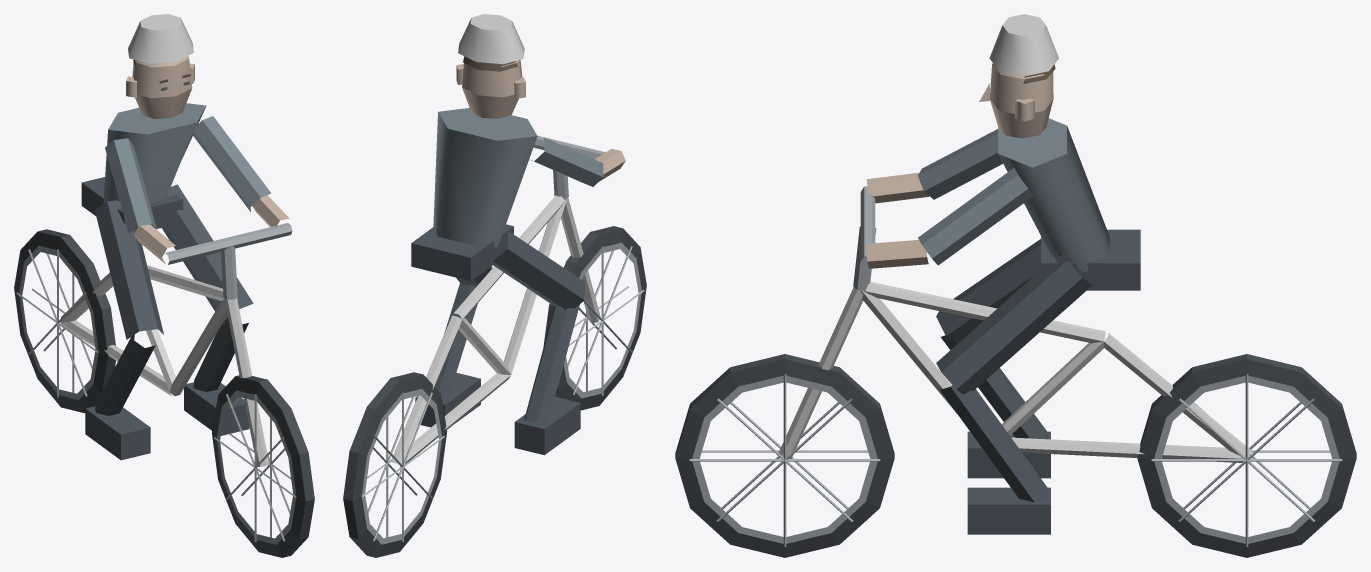
File: cyclist.glb
3 renders of one model, left to right at view 1: azimuth 30°, elevation 25°; view 2: azimuth 150°, elevation 25°; view 3: azimuth 270°, elevation 25°, orthographic. The views are drawn at different scales.
Visible parts, largest first — view 1: body; view 2: body; view 3: body.
Boxes of the visible parts, x1,y1,x2,y2 form: body: [14, 14, 314, 557]; body: [343, 14, 646, 557]; body: [675, 14, 1356, 557].
Bounding box in the file's own units: 0.5811 × 1.76 × 2.05.
